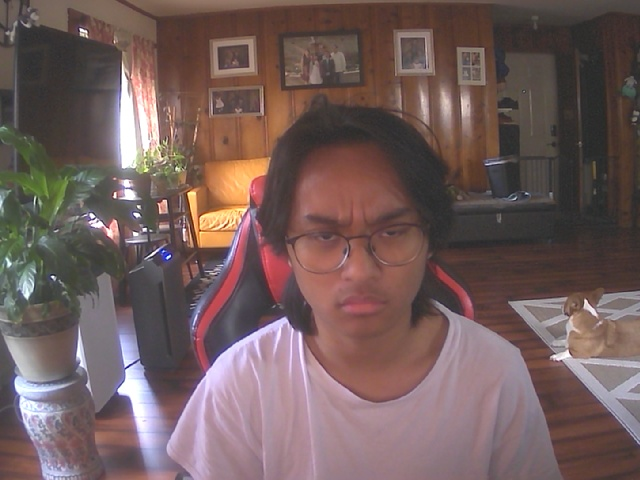anger: (276, 111, 443, 342)
